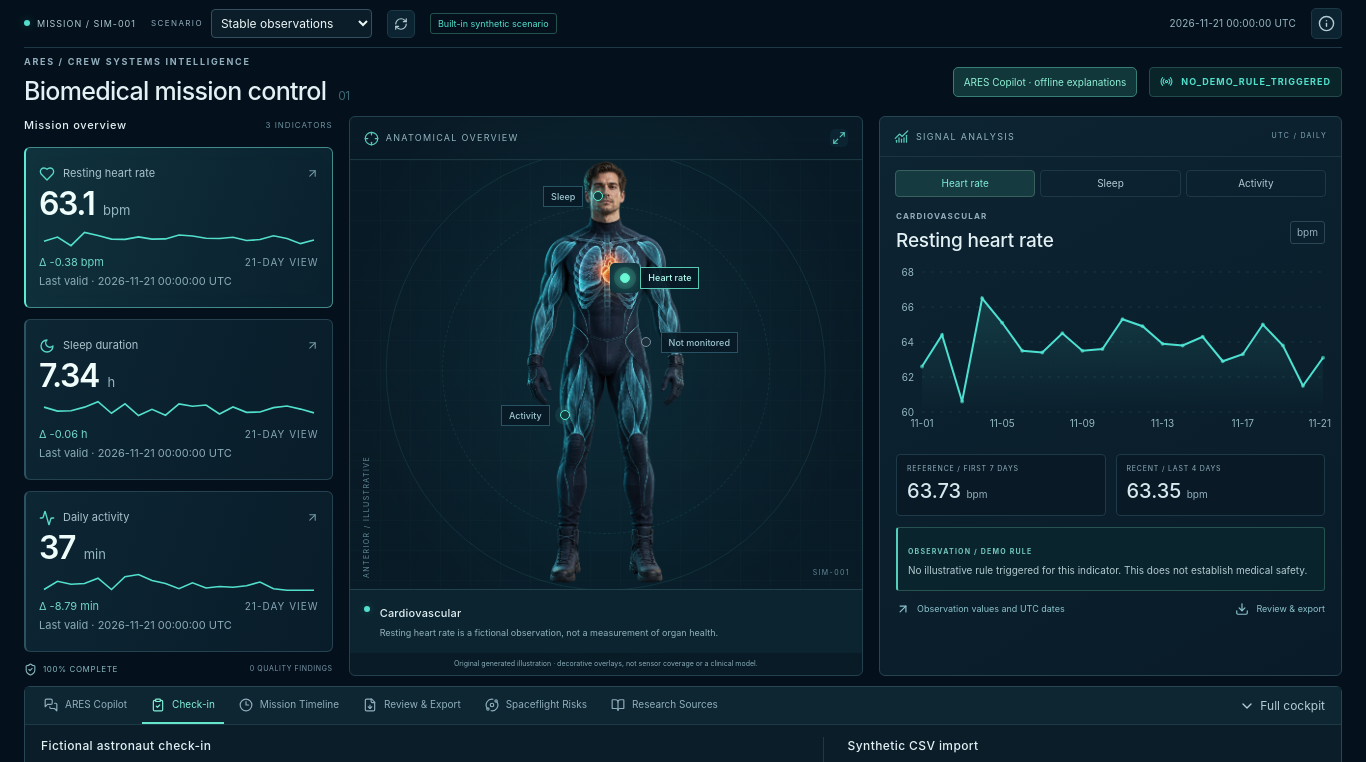
Test: aborts stale requests and ignores late responses on rapid scenario changes
Expected: the heading "Mission overview" is shown, 24,118 -> 127,134
Select "Resting heart rate shift" in the dropdown named "Demo scenario" at (291, 24), box 211,9 -> 372,38
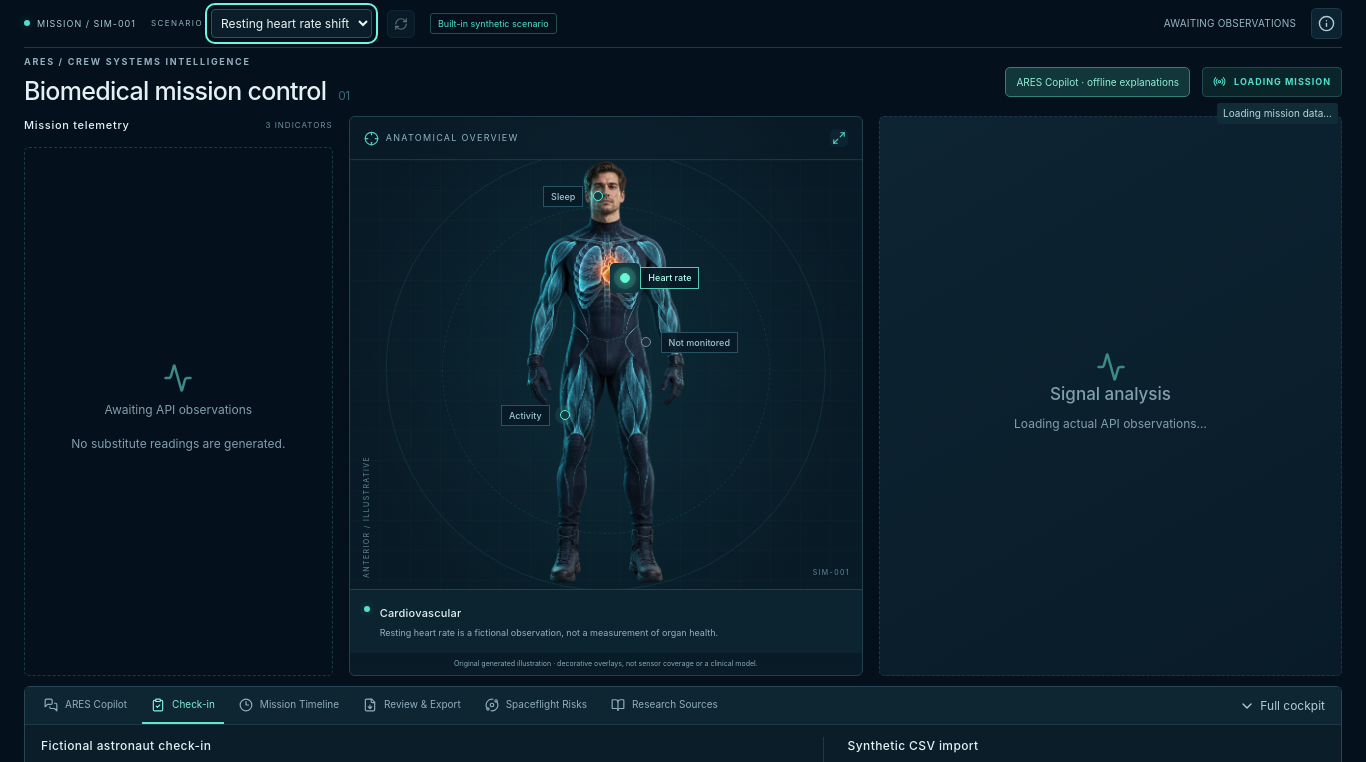
Result: the text "Loading mission data…" is shown at 1217,103 -> 1338,124
Select "Shortened sleep" in the dropdown named "Demo scenario" at (291, 24), box 211,9 -> 372,38
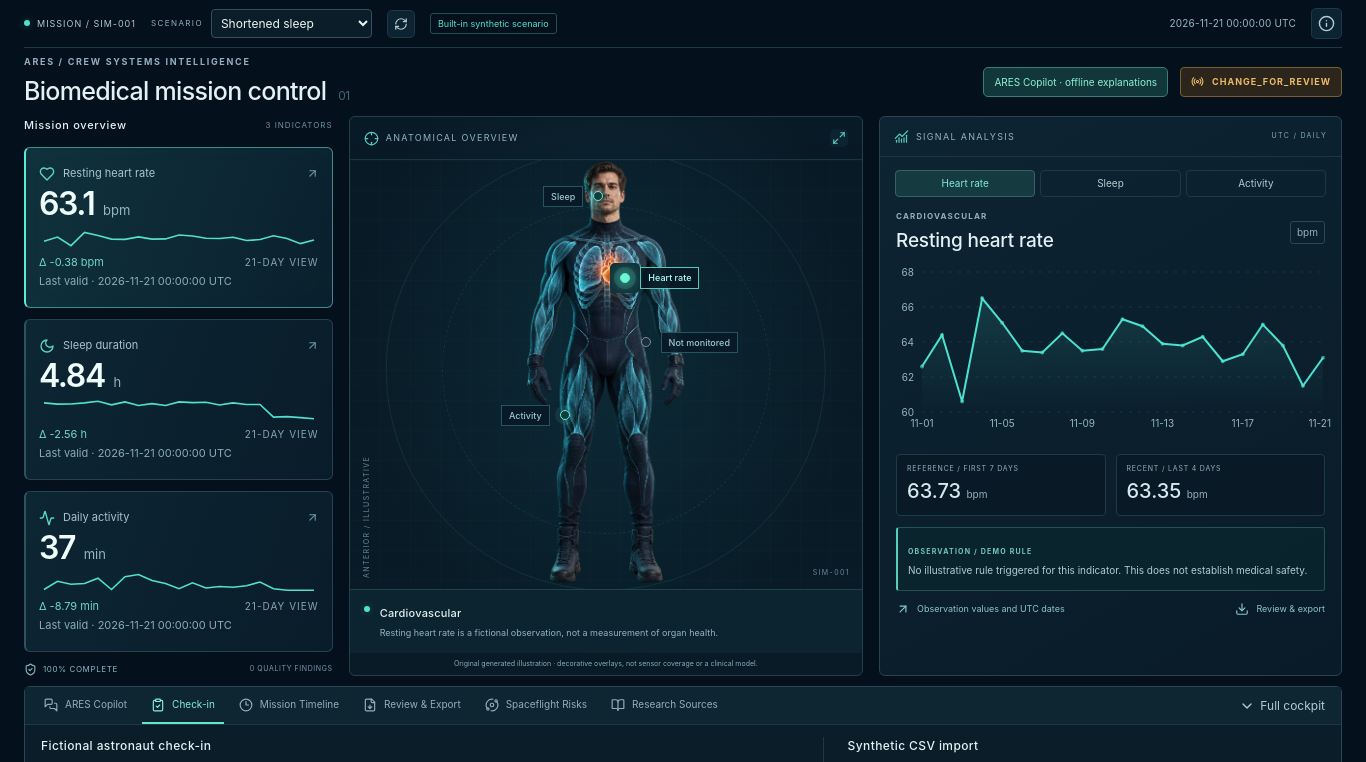
Result: the heading "Mission overview" is shown at 24,118 -> 127,134
